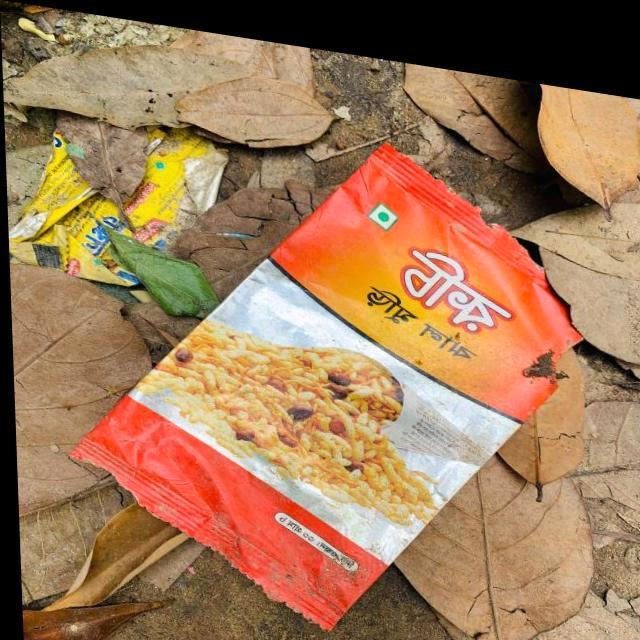packet: (65, 118, 602, 640), (3, 103, 223, 294)
